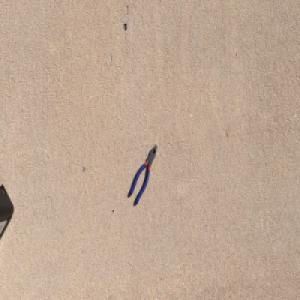Pliers: (128, 143, 158, 205)
